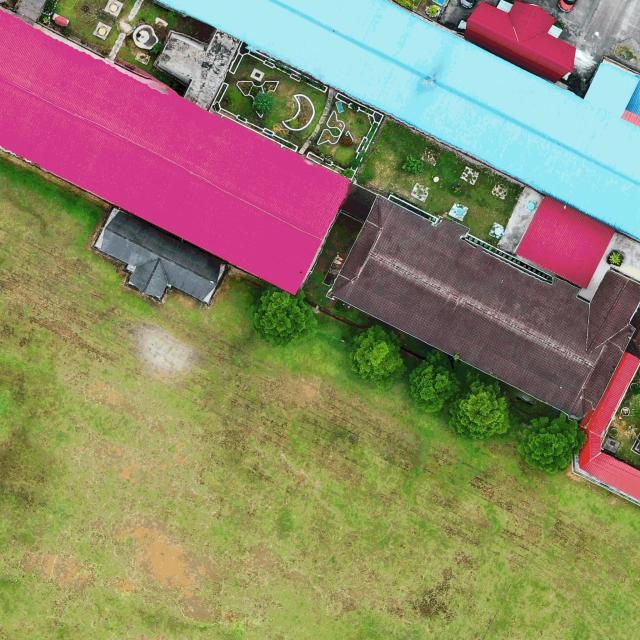Tree: (518, 410, 588, 474), (448, 376, 512, 440), (253, 283, 315, 347), (350, 323, 407, 382), (408, 351, 462, 413)
